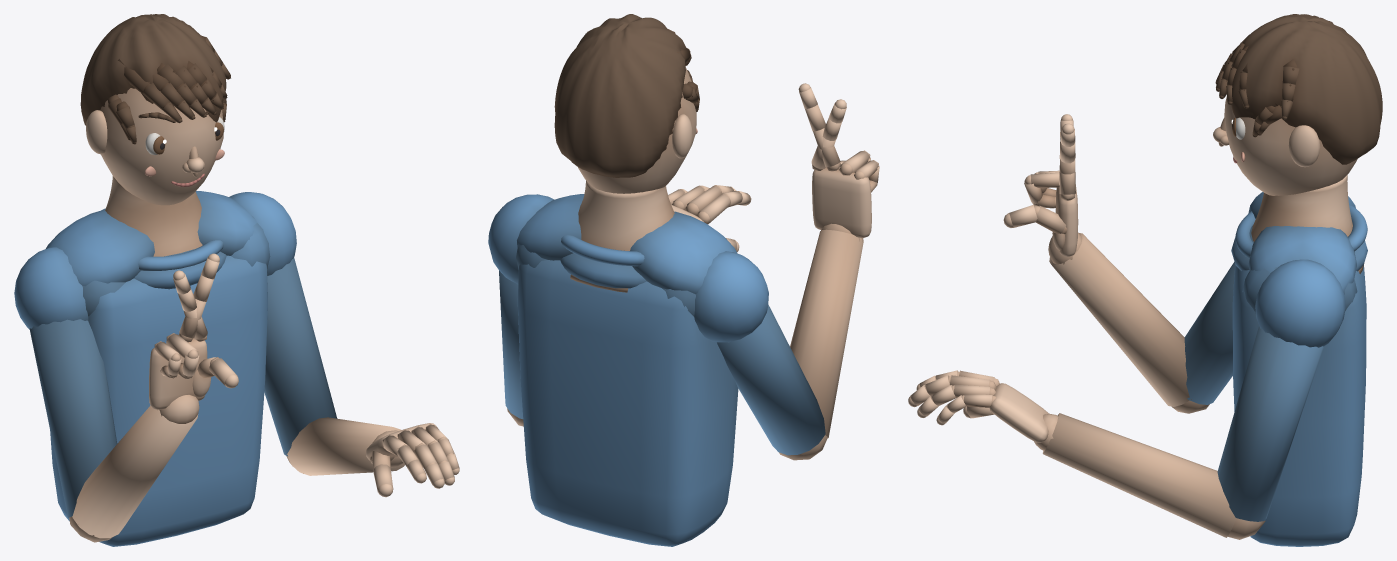
The picture shows the model from 3 angles, left to right: view 1: azimuth 30°, elevation 25°; view 2: azimuth 150°, elevation 25°; view 3: azimuth 270°, elevation 25°; orthographic projection.
Parts seen in each view (by area): view 1: LSC_Body; view 2: LSC_Body; view 3: LSC_Body.
Boxes of the visible parts, x1,y1,x2,y2 form: LSC_Body: [14, 14, 459, 546]; LSC_Body: [488, 14, 879, 546]; LSC_Body: [908, 14, 1382, 546].
Bounding box in the file's own units: 0.4304 × 0.713 × 0.6104.
